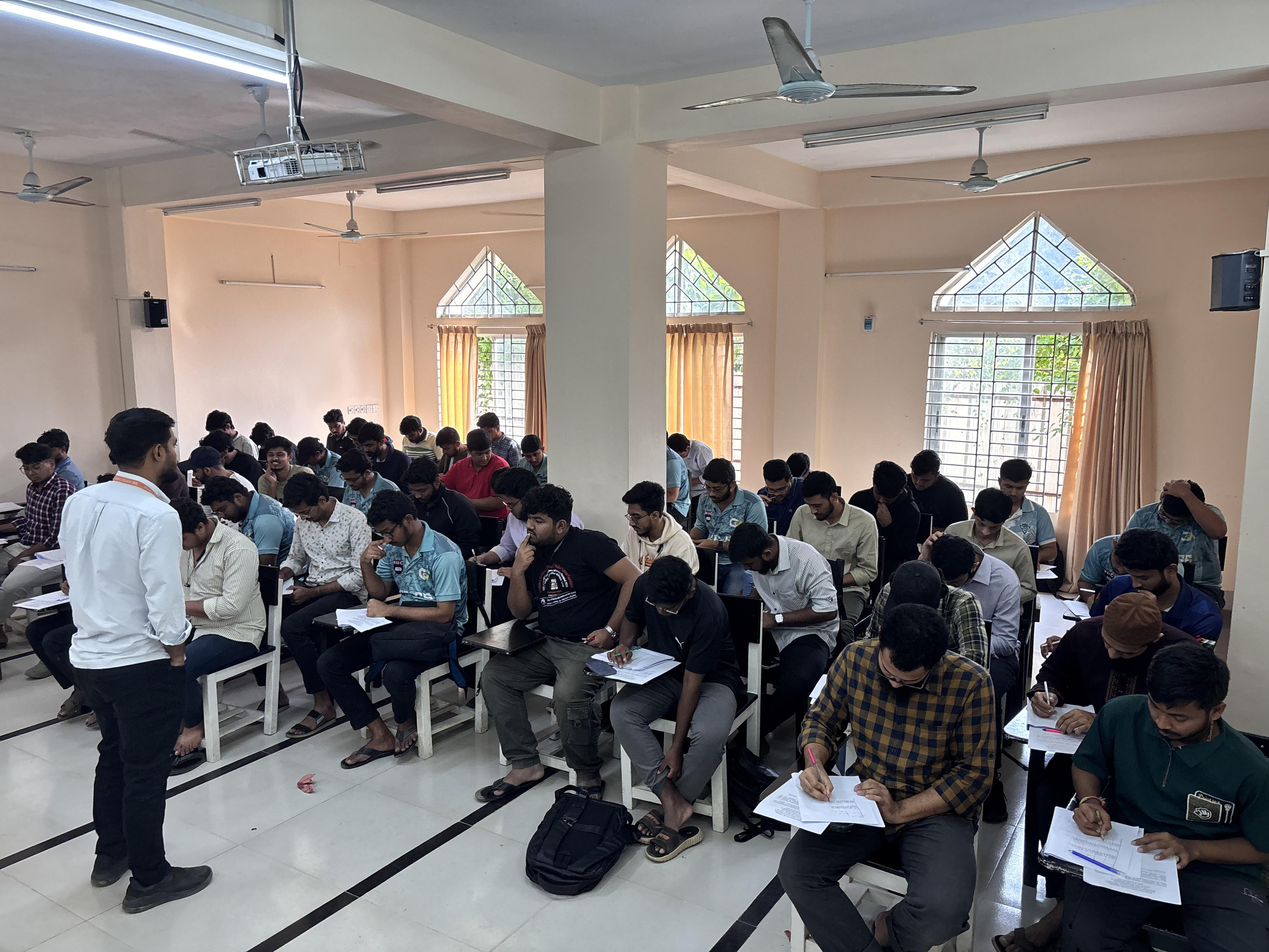copying: (452, 427, 501, 493)
invigilator: (66, 400, 198, 899)
no_cheating: (804, 606, 979, 841), (1081, 647, 1243, 886), (500, 485, 596, 644), (354, 493, 469, 623), (618, 548, 714, 689), (1040, 589, 1155, 704), (3, 434, 68, 604), (279, 471, 368, 590), (725, 510, 823, 617), (200, 466, 294, 559), (788, 469, 875, 560), (1138, 475, 1223, 549), (614, 477, 681, 565), (1109, 537, 1191, 604), (691, 455, 755, 534), (993, 449, 1058, 516), (334, 448, 393, 518), (396, 455, 453, 526), (962, 486, 1021, 554), (866, 444, 913, 526), (911, 436, 957, 516), (747, 456, 803, 518), (187, 441, 230, 490), (515, 431, 552, 479), (395, 414, 434, 457), (315, 403, 349, 442)
side_talking: (258, 436, 300, 495)
